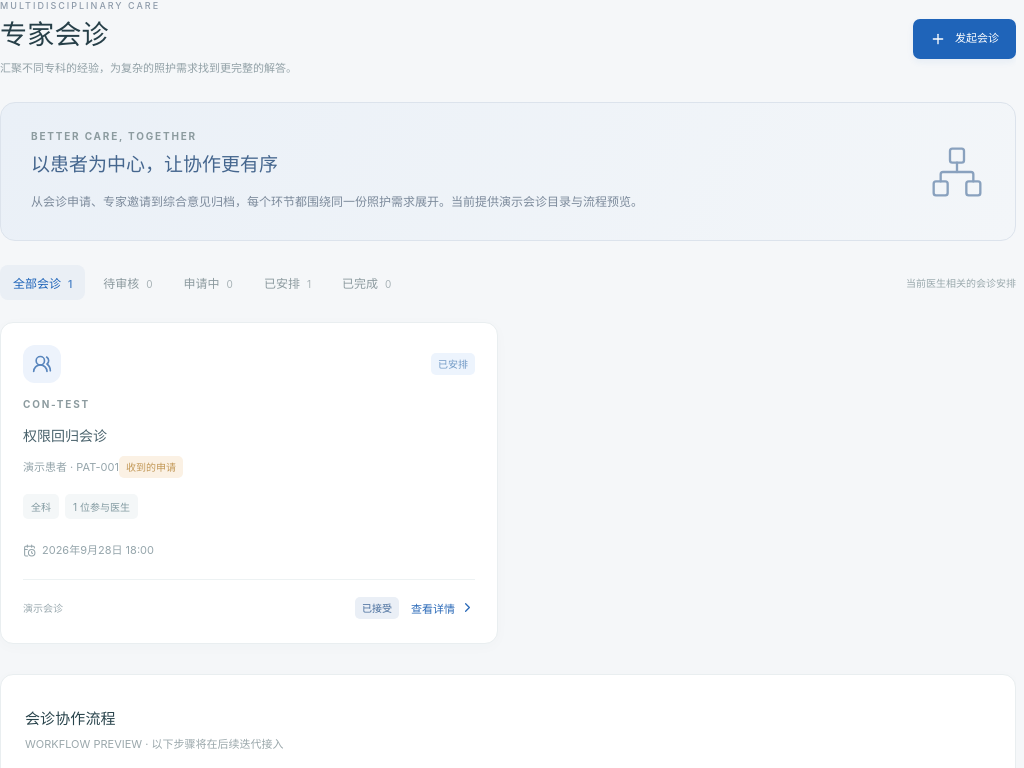
Test: an invited reviewer exits after completion without requesting its newly forbidden room
This screenshot has width=1024, height=768.
Click the button "查看详情".
click(443, 608)  # box x1=411 y1=595 x2=475 y2=621
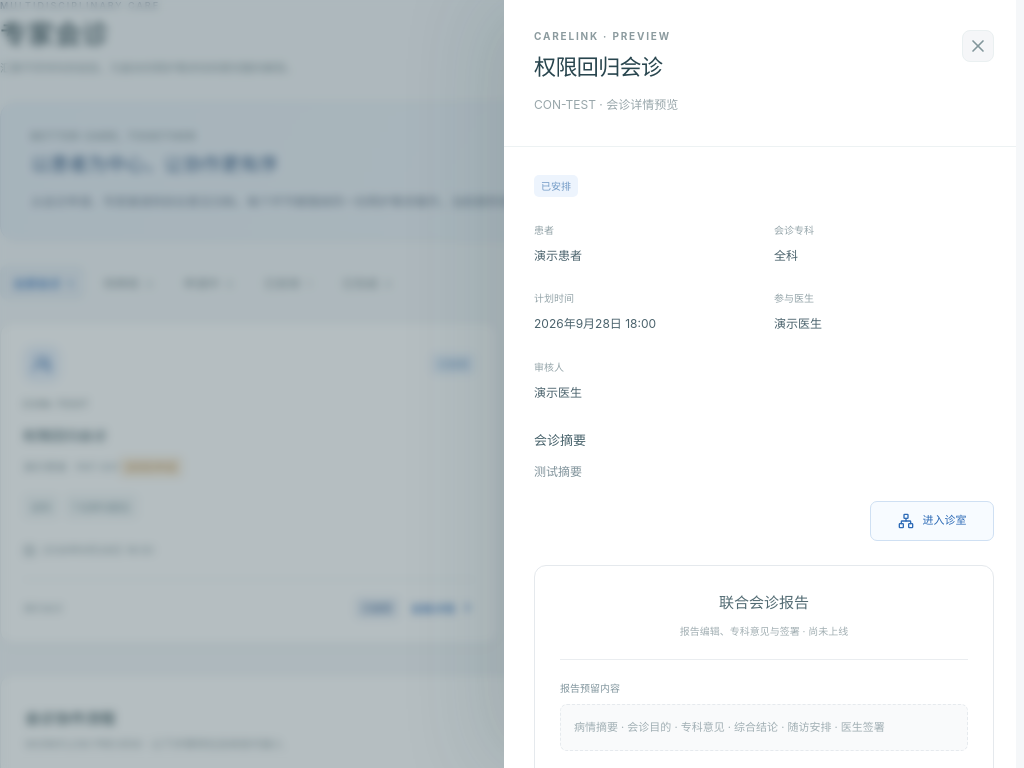
Click the button "进入诊室".
click(932, 521)  # box x1=870 y1=501 x2=994 y2=541
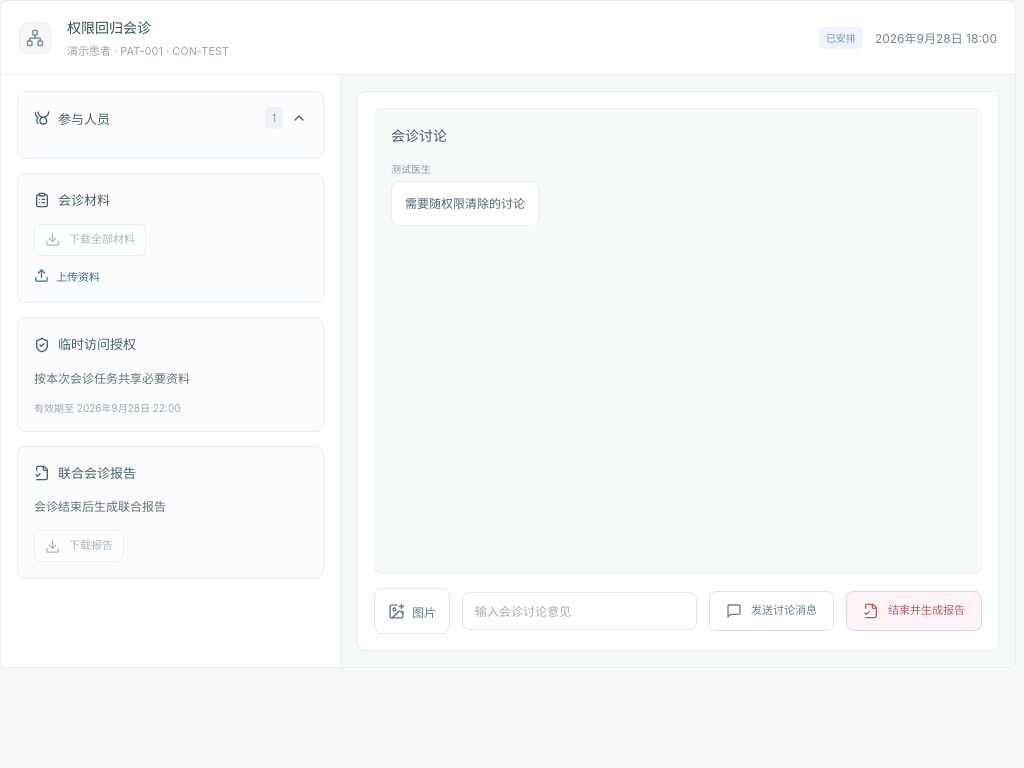
Expected: the text "需要随权限清除的讨论" is shown, x1=391 y1=181 x2=539 y2=226
Click the button "结束并生成报告".
click(914, 611)  # box x1=846 y1=591 x2=982 y2=631
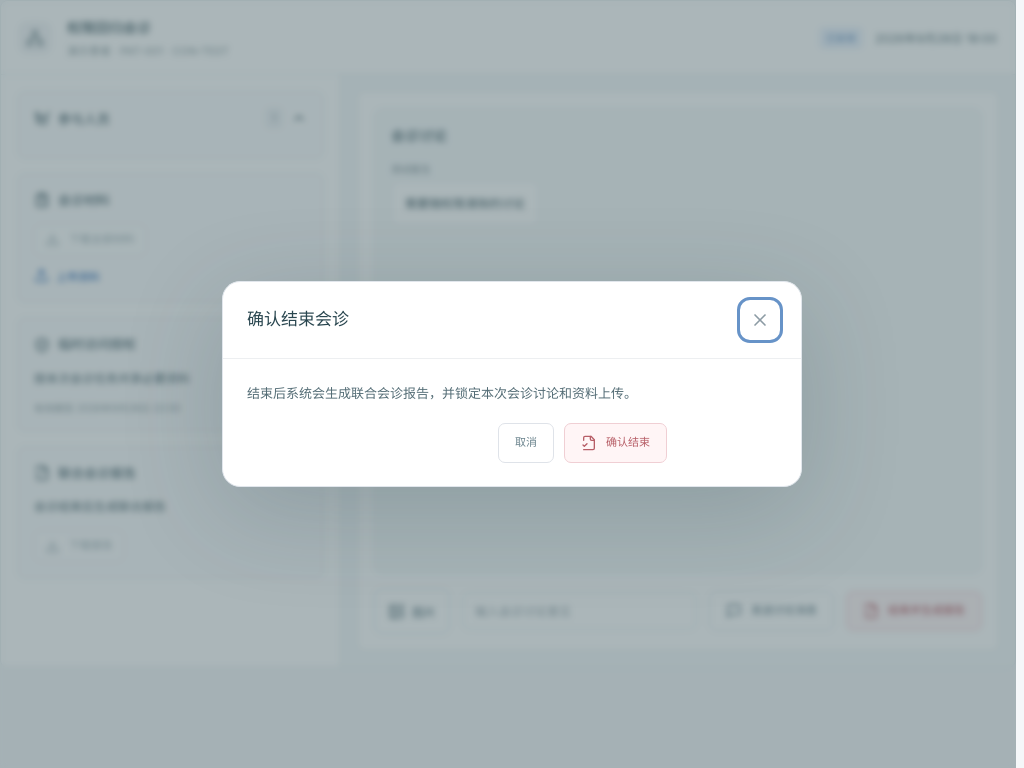
Click the button "确认结束".
click(616, 443)  # box x1=564 y1=423 x2=667 y2=463
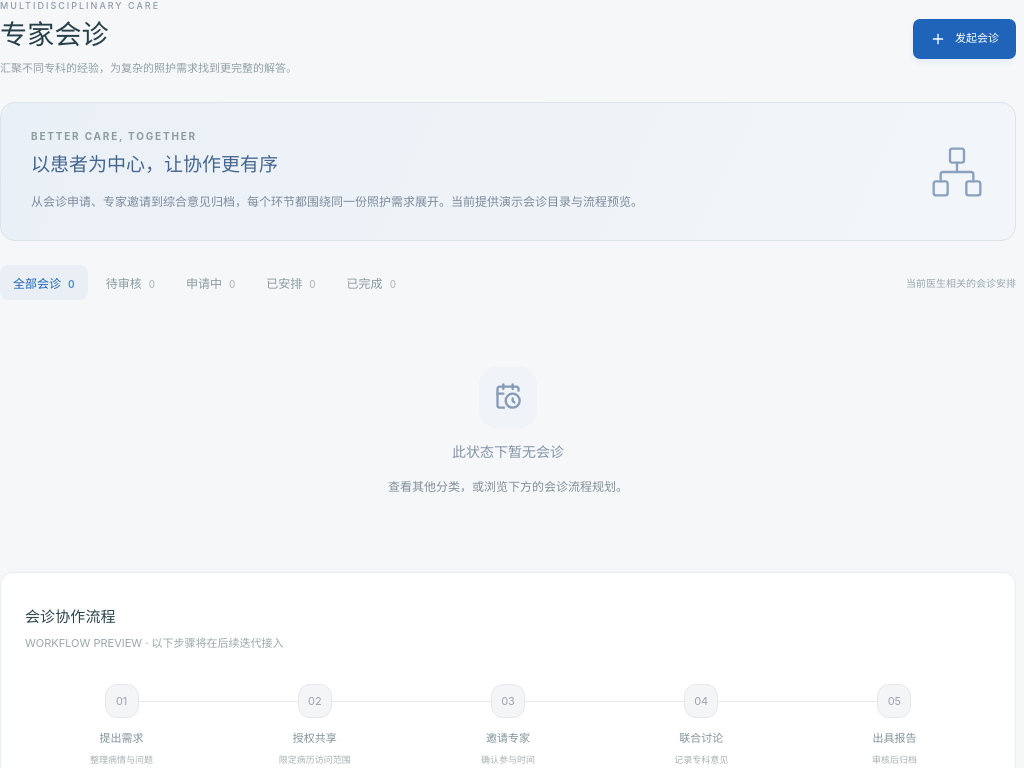
Expected: the text "需要随权限清除的讨论" is gone
